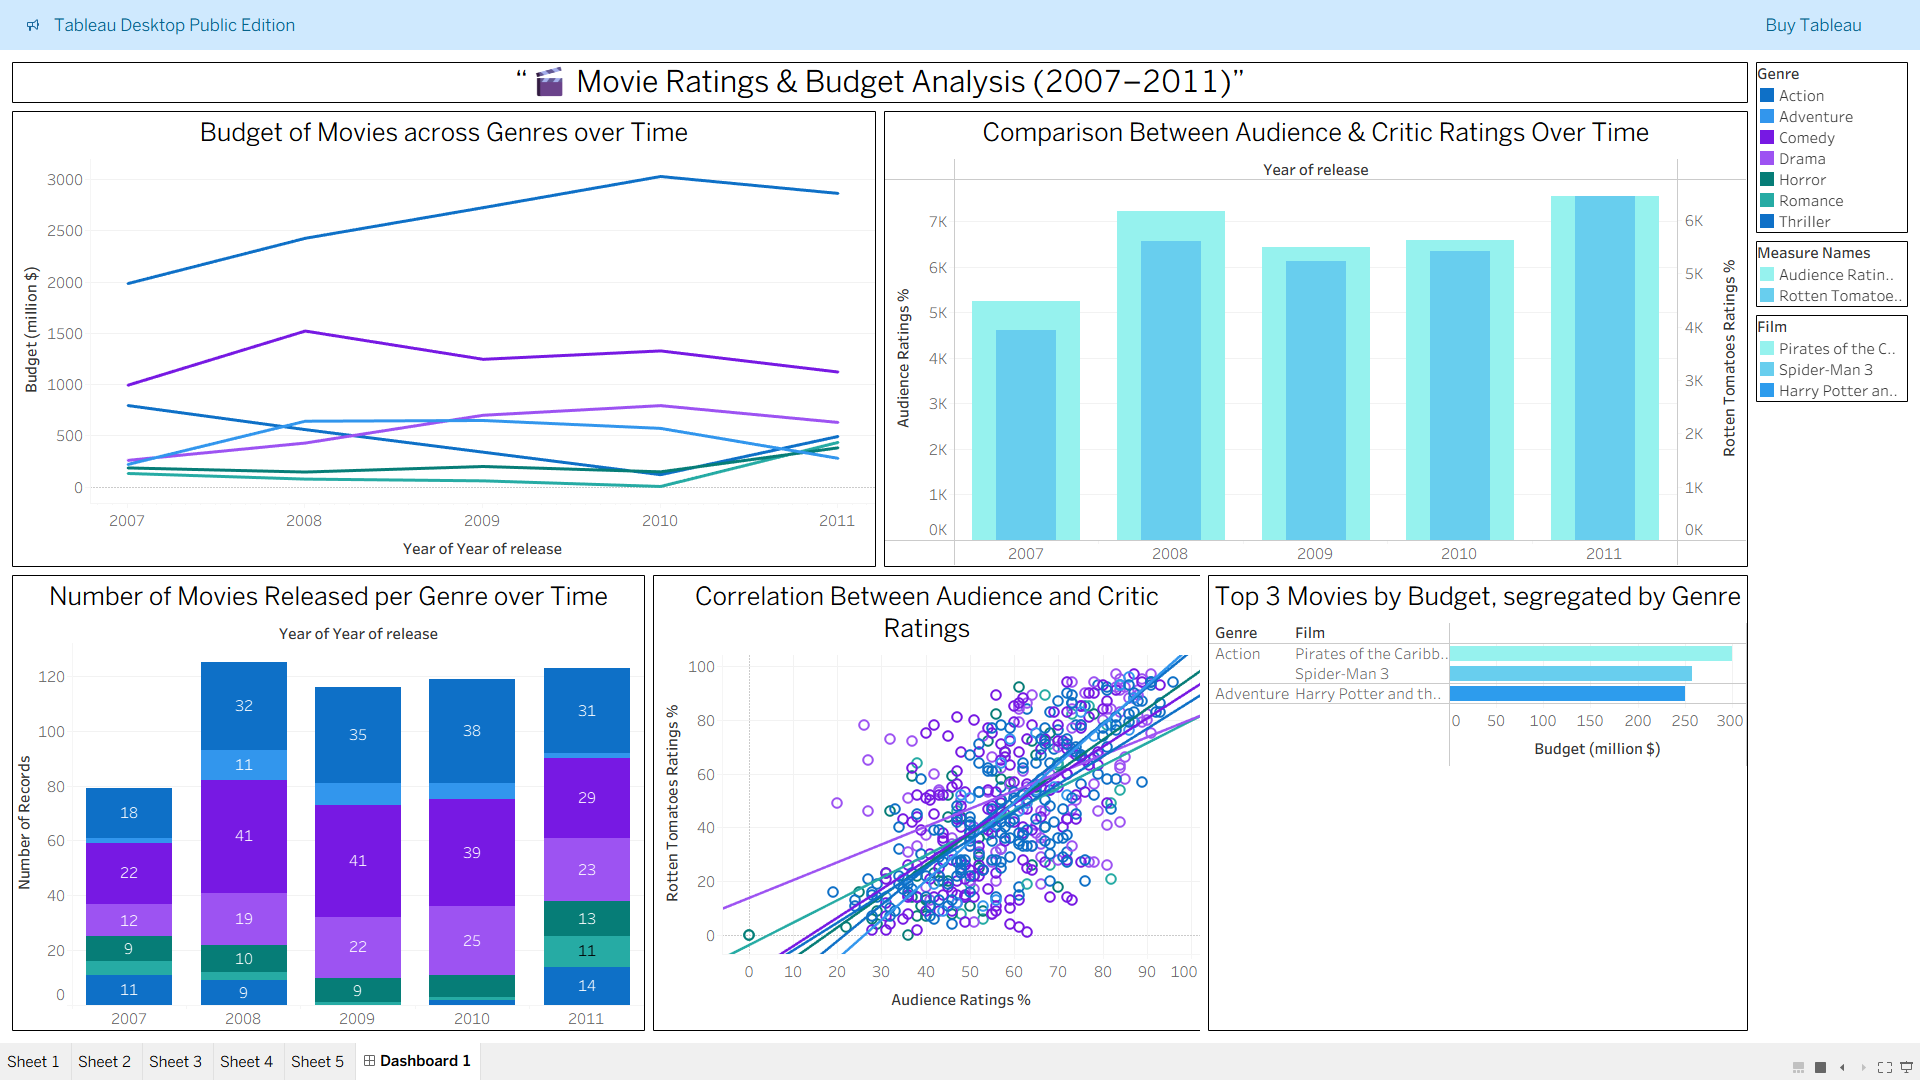

What the dashboard file says about the page in this screenshot:
{"tool":"tableau","page":{"name":"Dashboard 1","canvas":[1000,1000],"units":"permille","ordinal":0},"visuals":[{"type":"title","box":[4.8,10,893.8,61.2]},{"type":"legend","title":"Sheet 1","param":"[federated.1wt0pa517ond471f0jhhq13j7kvz].[none:Genre:nk]","box":[898.6,10,96.6,223.5]},{"type":"worksheet","title":"Sheet 1","mark":"Automatic","rows":["Budget (million $)"],"cols":["Year of release"],"box":[4.8,71.2,446.9,459.4]},{"type":"worksheet","title":"Sheet 4","mark":"Bar","rows":["Audience Ratings %","Rotten Tomatoes Ratings %"],"cols":["Year of release"],"box":[451.7,71.2,446.9,459.4]},{"type":"legend","title":"Sheet 4","param":"[federated.1wt0pa517ond471f0jhhq13j7kvz].[:Measure Names]","box":[898.6,233.5,96.6,92.4]},{"type":"legend","title":"Sheet 5","param":"[federated.1wt0pa517ond471f0jhhq13j7kvz].[none:Film:nk]","box":[898.6,325.9,96.6,118.6]},{"type":"worksheet","title":"Sheet 3","mark":"Bar","rows":["Number of Records"],"cols":["Year of release"],"box":[4.8,530.6,328.3,459.4]},{"type":"worksheet","title":"Sheet 2","mark":"Automatic","rows":["Rotten Tomatoes Ratings %"],"cols":["Audience Ratings %"],"box":[333.1,530.6,284.9,459.4]},{"type":"worksheet","title":"Sheet 5","mark":"Automatic","rows":["Genre","Film"],"cols":["Budget (million $)"],"box":[618,530.6,280.6,459.4]}]}

Visuals, with their boxes on the dashboard's canvas, which has no fixed pixel size, in thousandths of its width and height (x1, y1, x2, y2). These are canvas units, not pixel positions in the 1920x1080 screenshot, which may show the page scaled, cropped or inside an application window:
title: BBox(5, 10, 899, 71)
"Sheet 1" legend: BBox(899, 10, 995, 234)
"Sheet 1" worksheet: BBox(5, 71, 452, 531)
"Sheet 4" worksheet (Bar marks): BBox(452, 71, 899, 531)
"Sheet 4" legend: BBox(899, 234, 995, 326)
"Sheet 5" legend: BBox(899, 326, 995, 444)
"Sheet 3" worksheet (Bar marks): BBox(5, 531, 333, 990)
"Sheet 2" worksheet: BBox(333, 531, 618, 990)
"Sheet 5" worksheet: BBox(618, 531, 899, 990)
